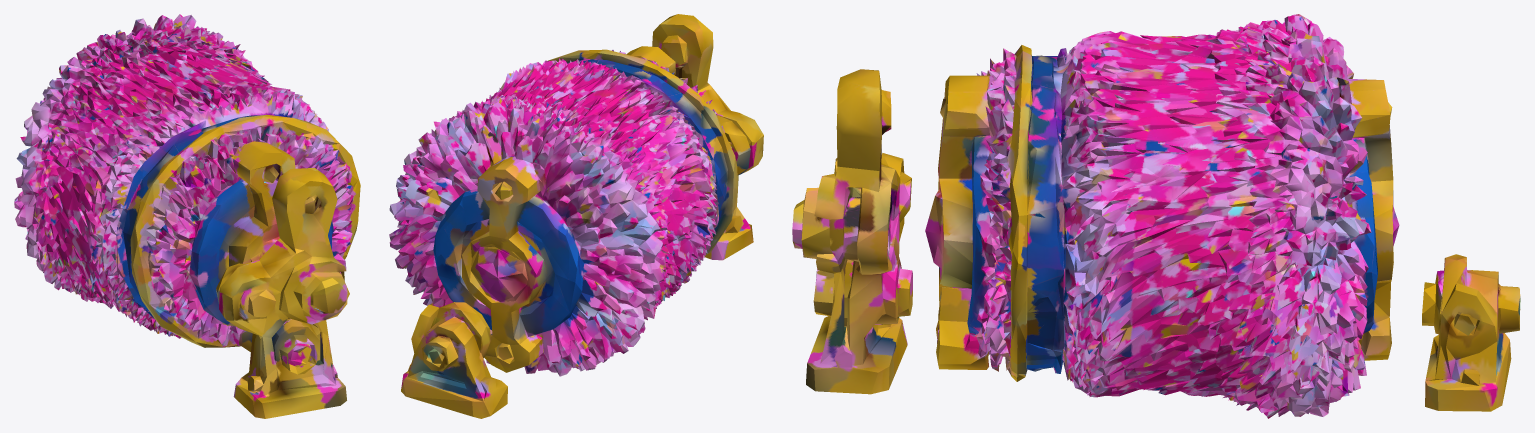
Rendered from roller_candidate_1.glb.
The picture shows the model from 3 angles, left to right: view 1: azimuth 30°, elevation 25°; view 2: azimuth 150°, elevation 25°; view 3: azimuth 270°, elevation 25°; orthographic projection. The views are drawn at different scales.
Visible parts, largest first — view 1: output_unwrapped; view 2: output_unwrapped; view 3: output_unwrapped.
Part boxes in pixels (x1,y1,x2,y2): output_unwrapped: (14, 14, 360, 418); output_unwrapped: (389, 14, 763, 418); output_unwrapped: (792, 14, 1520, 418).
Size of the model in its own units: 1.04 by 1.04 by 1.9.
1 material, 1 textured.
